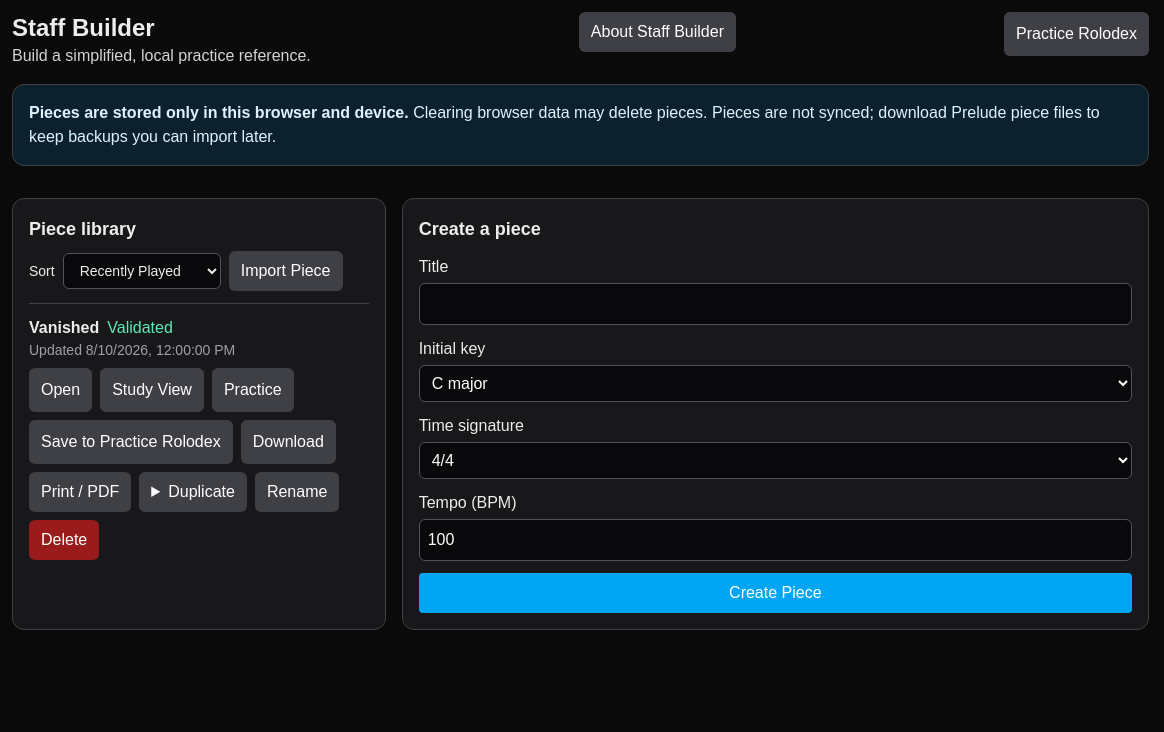
Test: Staff Builder library Study View and editing lock › reports a unsupported saved piece at click time without opening an editor or writing storage
Click the button with aria-label "Study View Vanished". click: (152, 390)
box: [100,368,204,412]
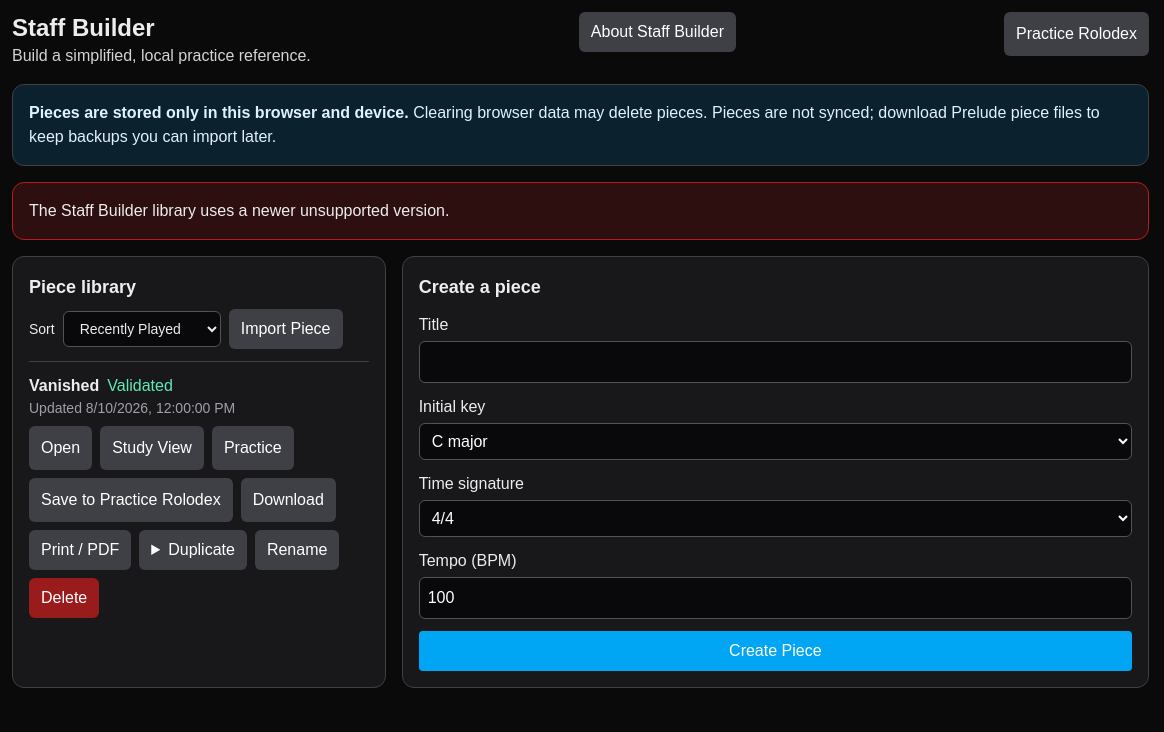
Expected: the message reads "The Staff Builder library uses a newer unsupported version.", [29,202,449,219]
